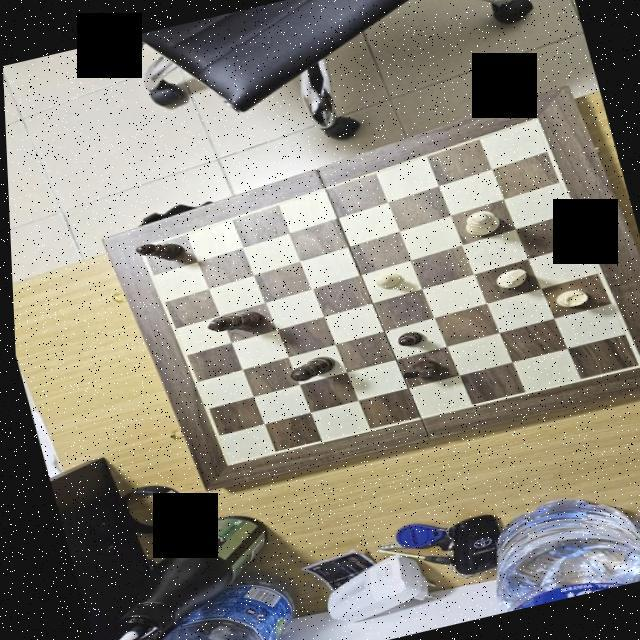chess-table-corners: (213, 456, 236, 470), (524, 112, 544, 126), (624, 357, 640, 374)
